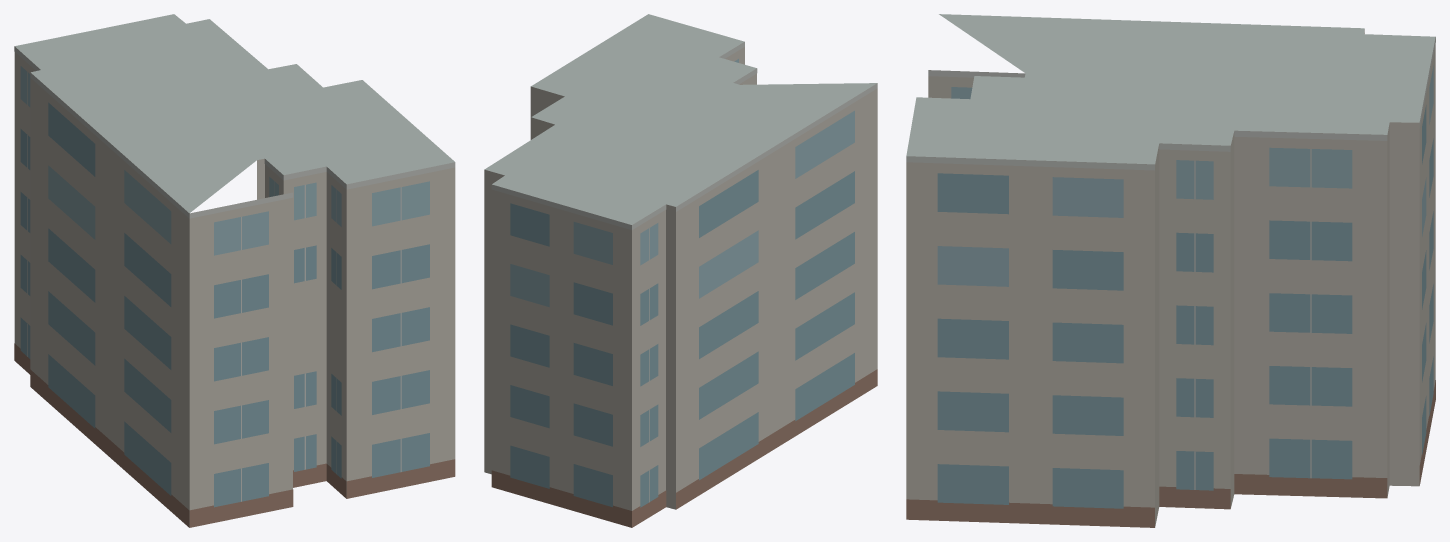
File: survey-upis-32504146.glb
3 renders of one model, left to right at view 1: azimuth 30°, elevation 25°; view 2: azimuth 150°, elevation 25°; view 3: azimuth 270°, elevation 25°, orthographic. The views are drawn at different scales.
Parts seen in each view (by area): view 1: survey-upis-32504146.tmp; view 2: survey-upis-32504146.tmp; view 3: survey-upis-32504146.tmp.
Part boxes in pixels (box(x1,y1,x2,y2)): survey-upis-32504146.tmp: box(14, 14, 455, 527); survey-upis-32504146.tmp: box(484, 14, 877, 527); survey-upis-32504146.tmp: box(906, 14, 1435, 527).
Bounding box in the file's own units: 12.88 × 14.5 × 19.15.
